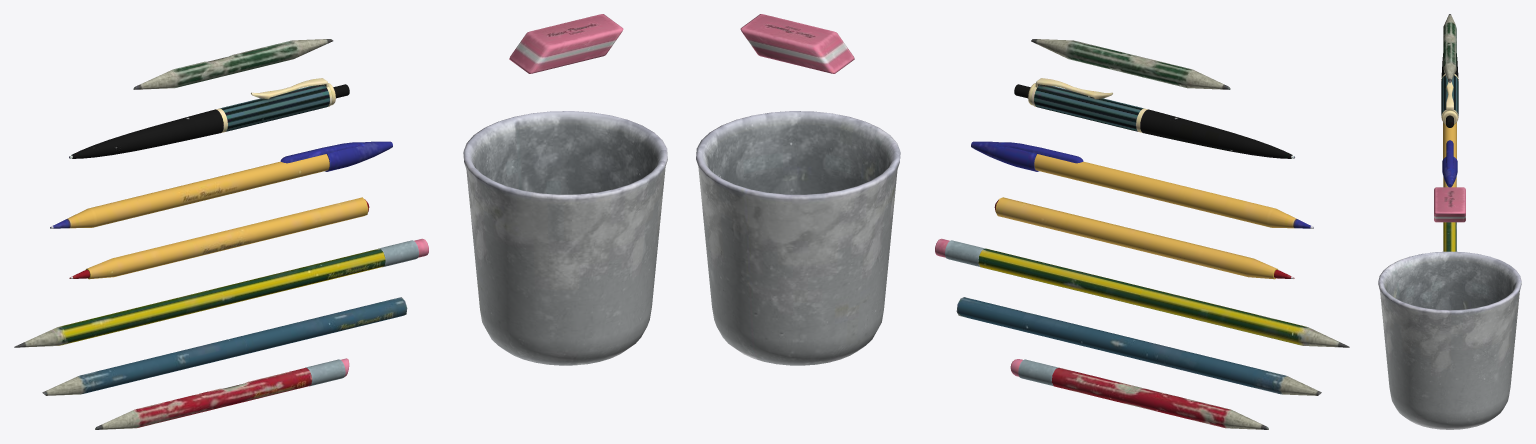
Rendered from stationery_supplies.glb.
The picture shows the model from 3 angles, left to right: view 1: azimuth 30°, elevation 25°; view 2: azimuth 150°, elevation 25°; view 3: azimuth 270°, elevation 25°; orthographic projection. The views are drawn at different scales.
Parts seen in each view (by area): view 1: stationery_supplies_pencilcup, stationery_supplies_pencil_new_a, stationery_supplies_pencil_new_b, stationery_supplies_pen_blue, stationery_supplies_pen_fancy, stationery_supplies_pen_red, stationery_supplies_pencil_used, stationery_supplies_eraser, stationery_supplies_pencil_old; view 2: stationery_supplies_pencilcup, stationery_supplies_pencil_new_a, stationery_supplies_pencil_new_b, stationery_supplies_pen_blue, stationery_supplies_pen_fancy, stationery_supplies_pen_red, stationery_supplies_pencil_used, stationery_supplies_eraser, stationery_supplies_pencil_old; view 3: stationery_supplies_pencilcup, stationery_supplies_eraser, stationery_supplies_pen_fancy, stationery_supplies_pen_blue, stationery_supplies_pencil_old, stationery_supplies_pencil_new_a.
Boxes of the visible parts, box(x1,y1,x2,y2) form: stationery_supplies_pencilcup: box(463, 111, 667, 365); stationery_supplies_pencil_new_a: box(14, 238, 428, 347); stationery_supplies_pencil_new_b: box(42, 297, 407, 395); stationery_supplies_pen_blue: box(50, 141, 392, 228); stationery_supplies_pen_fancy: box(69, 78, 349, 158); stationery_supplies_pen_red: box(69, 197, 369, 279); stationery_supplies_pencil_used: box(95, 358, 349, 429); stationery_supplies_eraser: box(509, 14, 623, 73); stationery_supplies_pencil_old: box(133, 39, 333, 89); stationery_supplies_pencilcup: box(696, 111, 900, 365); stationery_supplies_pencil_new_a: box(935, 238, 1349, 347); stationery_supplies_pencil_new_b: box(956, 297, 1321, 395); stationery_supplies_pen_blue: box(971, 141, 1313, 228); stationery_supplies_pen_fancy: box(1014, 78, 1294, 158); stationery_supplies_pen_red: box(994, 197, 1294, 279); stationery_supplies_pencil_used: box(1010, 359, 1268, 429); stationery_supplies_eraser: box(740, 14, 854, 73); stationery_supplies_pencil_old: box(1031, 39, 1230, 89); stationery_supplies_pencilcup: box(1378, 251, 1521, 429); stationery_supplies_eraser: box(1434, 187, 1465, 222); stationery_supplies_pen_fancy: box(1441, 53, 1458, 127); stationery_supplies_pen_blue: box(1442, 122, 1457, 187); stationery_supplies_pencil_old: box(1443, 14, 1456, 82); stationery_supplies_pencil_new_a: box(1443, 222, 1456, 251).
Size of the model in its own units: 0.3019 by 0.1643 by 0.0837.
1 material, 1 textured.
